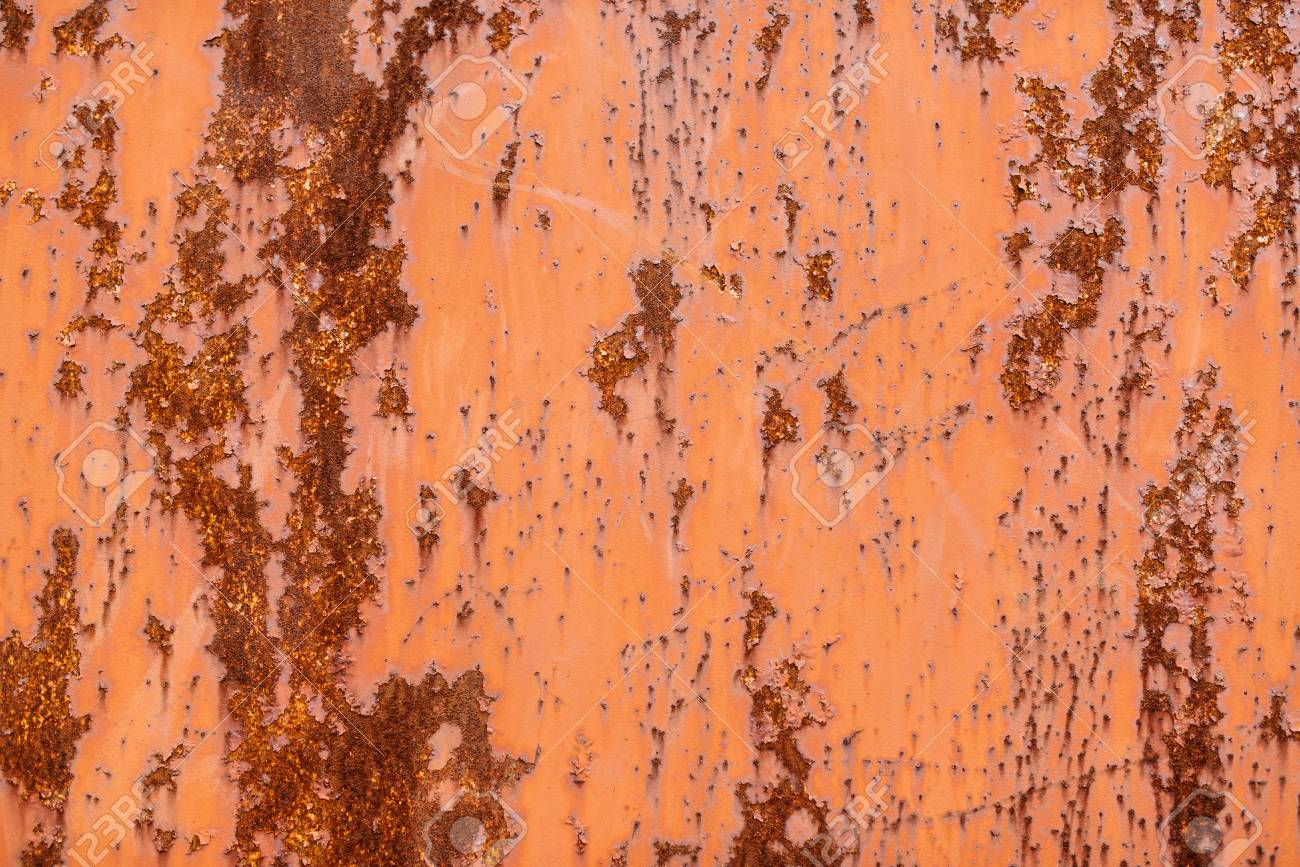rust: (204, 17, 395, 849), (1149, 383, 1228, 865), (1019, 80, 1145, 375), (8, 547, 88, 819)
